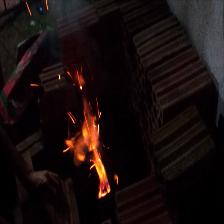fire: (40, 56, 146, 208)
